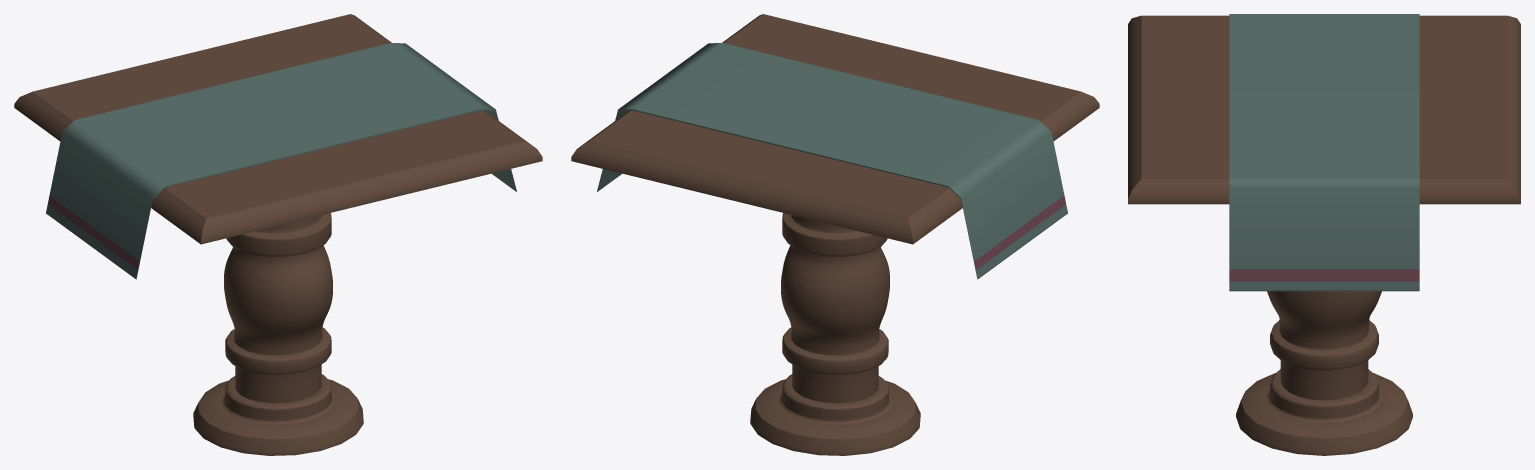
Rendered from table.fbx.
3 renders of one model, left to right at view 1: azimuth 30°, elevation 25°; view 2: azimuth 150°, elevation 25°; view 3: azimuth 270°, elevation 25°, orthographic. The views are drawn at different scales.
Parts seen in each view (by area): view 1: pCube2, pCube1, pCylinder1; view 2: pCube2, pCube1, pCylinder1; view 3: pCube2, pCube1, pCylinder1.
Part boxes in pixels (x1=…): pCube2: x1=46, y1=43, x2=516, y2=279; pCube1: x1=14, y1=14, x2=542, y2=244; pCylinder1: x1=193, y1=213, x2=363, y2=455; pCube2: x1=597, y1=43, x2=1067, y2=279; pCube1: x1=571, y1=14, x2=1099, y2=244; pCylinder1: x1=750, y1=213, x2=920, y2=455; pCube2: x1=1229, y1=14, x2=1419, y2=291; pCube1: x1=1128, y1=15, x2=1520, y2=204; pCylinder1: x1=1236, y1=291, x2=1412, y2=455.
Size of the model in its own units: 3.76 by 2.89 by 3.19.
